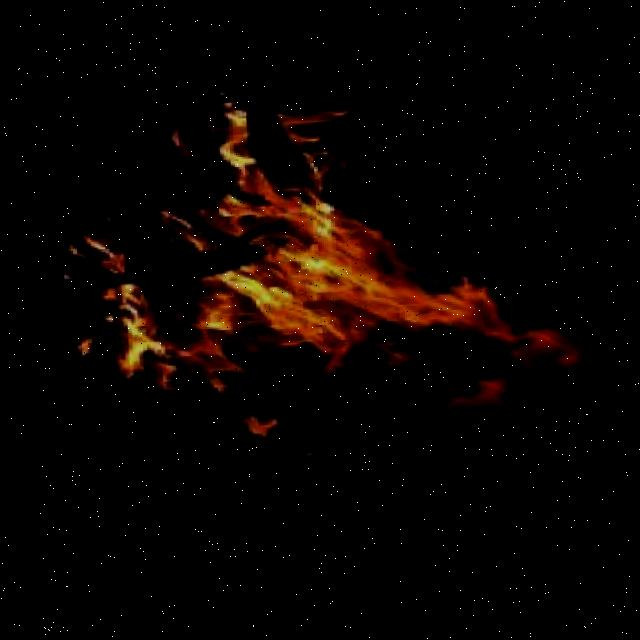fire: (72, 74, 572, 451)
